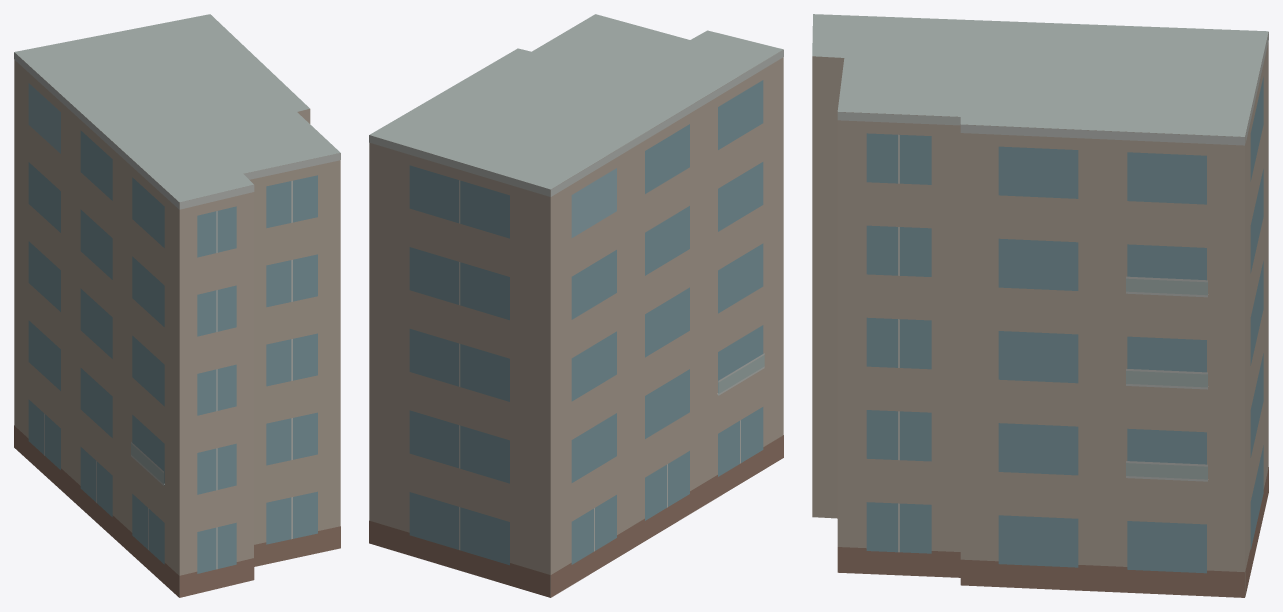
The model's file is survey-upis-32493873.glb.
3 views of the same model, side by side, from view 1: azimuth 30°, elevation 25°; view 2: azimuth 150°, elevation 25°; view 3: azimuth 270°, elevation 25° (orthographic). The views are drawn at different scales.
Visible parts, largest first — view 1: survey-upis-32493873.tmp; view 2: survey-upis-32493873.tmp; view 3: survey-upis-32493873.tmp.
Part boxes in pixels (left/top/right/bottom): survey-upis-32493873.tmp: left=14, top=14, right=340, bottom=597; survey-upis-32493873.tmp: left=369, top=14, right=783, bottom=597; survey-upis-32493873.tmp: left=812, top=14, right=1268, bottom=597.
Size of the model in its own units: 7.51 by 13.1 by 11.77.
